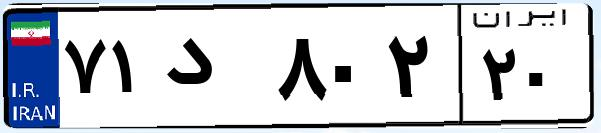0: (330, 28, 385, 110), (525, 38, 570, 115)
1: (110, 28, 158, 98)
2: (385, 28, 445, 110), (475, 38, 525, 113)
7: (57, 26, 110, 100)
8: (270, 28, 330, 110)
د: (158, 20, 270, 120)
